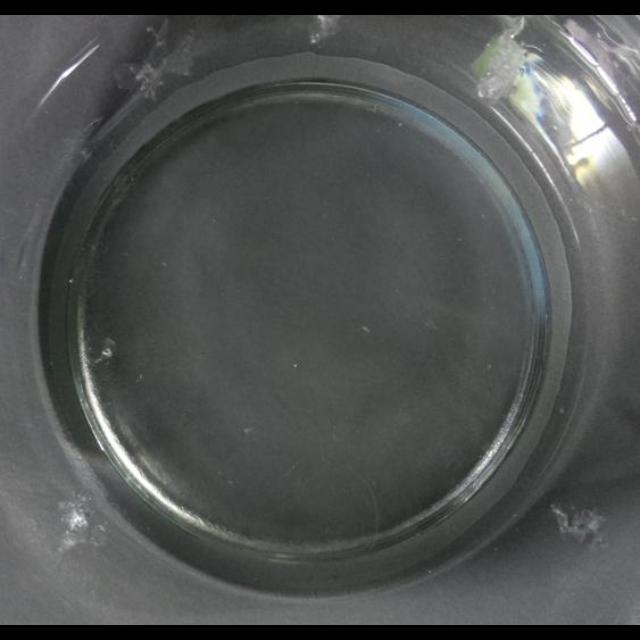Fibre: (470, 21, 544, 100), (56, 496, 106, 554), (550, 504, 608, 548), (130, 58, 168, 98), (307, 16, 341, 46), (90, 339, 114, 366)
microbeads: (360, 326, 370, 334)
